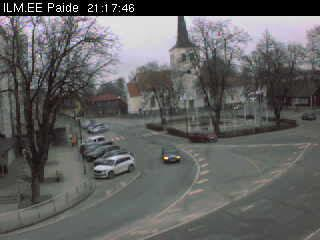car: (92, 154, 136, 180), (94, 147, 130, 165), (81, 141, 113, 159), (88, 146, 120, 161), (160, 144, 182, 164), (83, 134, 106, 151), (188, 131, 218, 144), (87, 123, 105, 134), (84, 120, 100, 130), (301, 111, 317, 121), (91, 126, 108, 135)
person: (69, 134, 77, 147)
